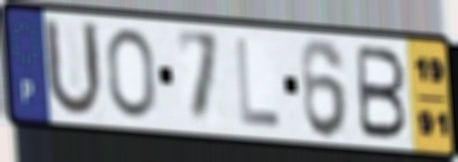6: (298, 35, 351, 143)
7: (173, 27, 222, 129)
B: (355, 42, 410, 143)
L: (233, 35, 284, 130)
O: (103, 25, 159, 122)
U: (41, 14, 106, 122)
